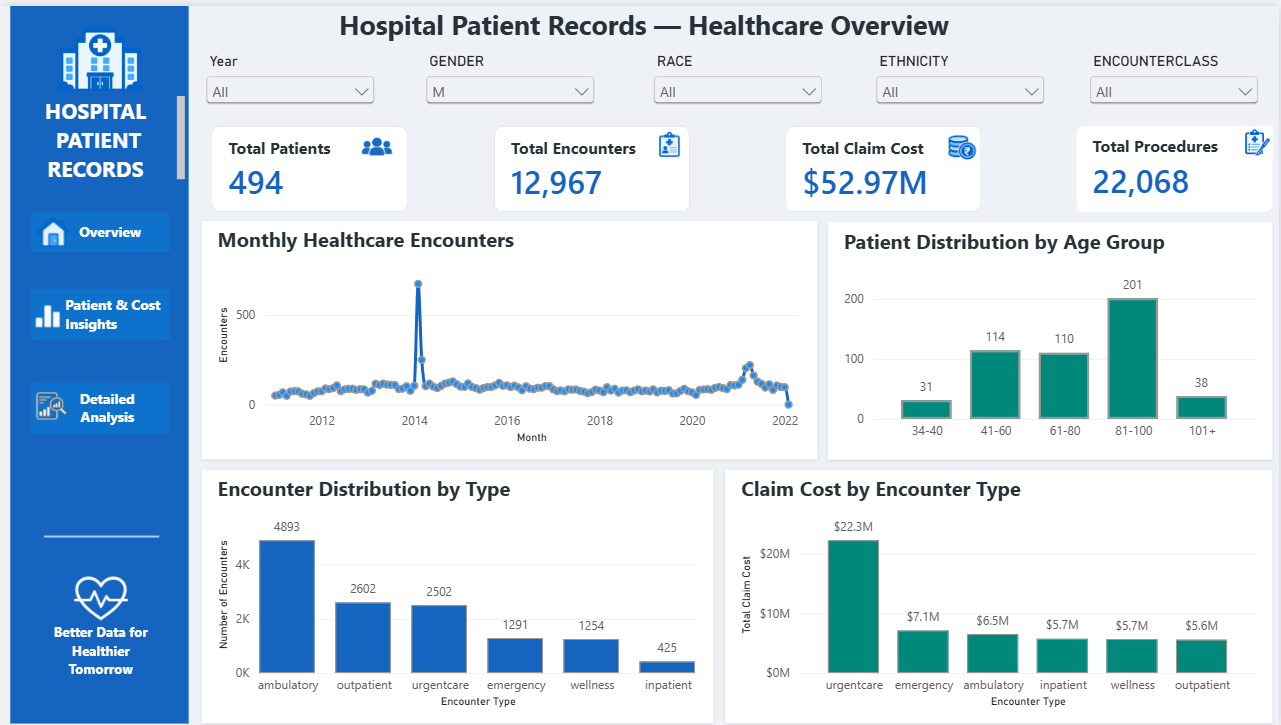

The dashboard page shown, as its layout file describes it:
{"tool":"powerbi","page":{"name":"Page 1","canvas":[1280,720],"ordinal":0},"visuals":[{"type":"cardVisual","fields":{"Data":["Count(patients.Id)"]},"box":[245.6,119.4,196.2,86.4],"z":0},{"type":"cardVisual","fields":{"Data":["CountNonNull(encounters.Id)"]},"box":[529.7,119.4,196.2,86.4],"z":1000},{"type":"cardVisual","title":"Total Claim Cost","fields":{"Data":["Sum(encounters.TOTAL_CLAIM_COST)"]},"box":[808.2,119.4,196.2,86.4],"z":2000},{"type":"cardVisual","fields":{"Data":["CountNonNull(procedures.PATIENT)"]},"box":[1077.2,119.4,196.2,86.4],"z":3000},{"type":"clusteredColumnChart","title":"Patient Distribution by Age Group","fields":{"Y":["CountNonNull(patients.Id)"],"Category":["patients_analysis (2).Age_Group"]},"box":[838.4,216.8,435,237.4],"z":4000},{"type":"clusteredColumnChart","title":"Encounter Distribution by Type","fields":{"Y":["CountNonNull(encounters.Id)"],"Category":["encounters.ENCOUNTERCLASS"]},"box":[245.6,463.8,480.3,253.9],"z":5000},{"type":"lineChart","title":"Monthly Healthcare Encounters","fields":{"Y":["CountNonNull(encounters.Id)"],"Category":["encounters.Month_Year"]},"box":[244.3,215.4,583.2,238.8],"z":6000},{"type":"clusteredColumnChart","title":"Claim Cost by Encounter Type","fields":{"Y":["Sum(encounters.TOTAL_CLAIM_COST)"],"Category":["encounters.ENCOUNTERCLASS"]},"box":[735.5,463.8,537.9,253.9],"z":7000},{"type":"textbox","box":[251.1,0,628.5,56.3],"z":8000},{"type":"slicer","title":"Year","fields":{"Values":["encounters.START.Variation.Date Hierarchy.Year"]},"box":[245.6,46.7,178,63.1],"z":8001},{"type":"slicer","title":"Year","fields":{"Values":["patients.GENDER"]},"box":[458,46.7,178,63.1],"z":8002},{"type":"slicer","title":"Year","fields":{"Values":["patients.RACE"]},"box":[667,46.7,178,63.1],"z":8003},{"type":"slicer","title":"Year","fields":{"Values":["patients.ETHNICITY"]},"box":[880,46.7,178,63.1],"z":8004},{"type":"slicer","title":"Year","fields":{"Values":["encounters.ENCOUNTERCLASS"]},"box":[1095,46.7,178,63.1],"z":8005}]}

Visuals, with their boxes on the page's 1280x720 design canvas (x1, y1, x2, y2). These are canvas units, not pixel positions in the 1281x725 screenshot, which may show the page scaled, cropped or inside an application window:
cardVisual - Count(patients.Id): 246,119,442,206
cardVisual - CountNonNull(encounters.Id): 530,119,726,206
"Total Claim Cost" cardVisual: 808,119,1004,206
cardVisual - CountNonNull(procedures.PATIENT): 1077,119,1273,206
"Patient Distribution by Age Group" clusteredColumnChart: 838,217,1273,454
"Encounter Distribution by Type" clusteredColumnChart: 246,464,726,718
"Monthly Healthcare Encounters" lineChart: 244,215,828,454
"Claim Cost by Encounter Type" clusteredColumnChart: 736,464,1273,718
textbox: 251,0,880,56
"Year" slicer: 246,47,424,110
"Year" slicer: 458,47,636,110
"Year" slicer: 667,47,845,110
"Year" slicer: 880,47,1058,110
"Year" slicer: 1095,47,1273,110
